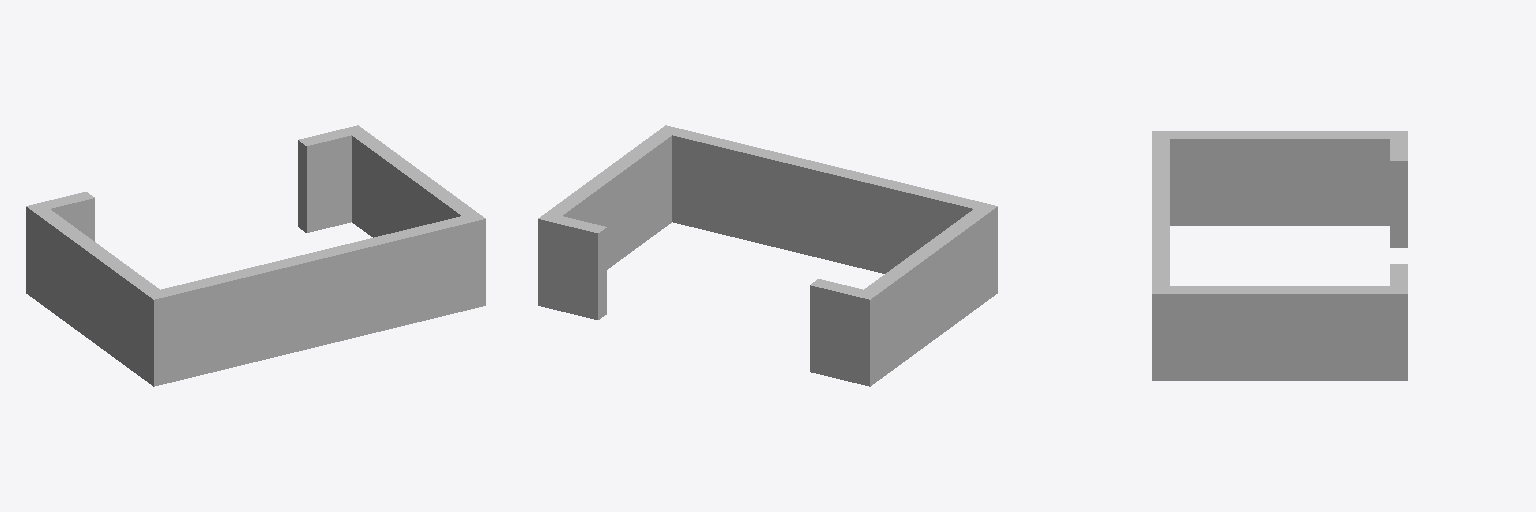
Rendered from garage.obj.
3 views of the same model, side by side, from view 1: azimuth 30°, elevation 25°; view 2: azimuth 150°, elevation 25°; view 3: azimuth 270°, elevation 25° (orthographic).
Visible parts, largest first — view 1: GarageWalls; view 2: GarageWalls; view 3: GarageWalls.
Boxes of the visible parts, <box> form: GarageWalls: <box>26,125,485,386</box>; GarageWalls: <box>538,125,997,386</box>; GarageWalls: <box>1152,131,1407,380</box>.
Size of the model in its own units: 12 by 3 by 8.